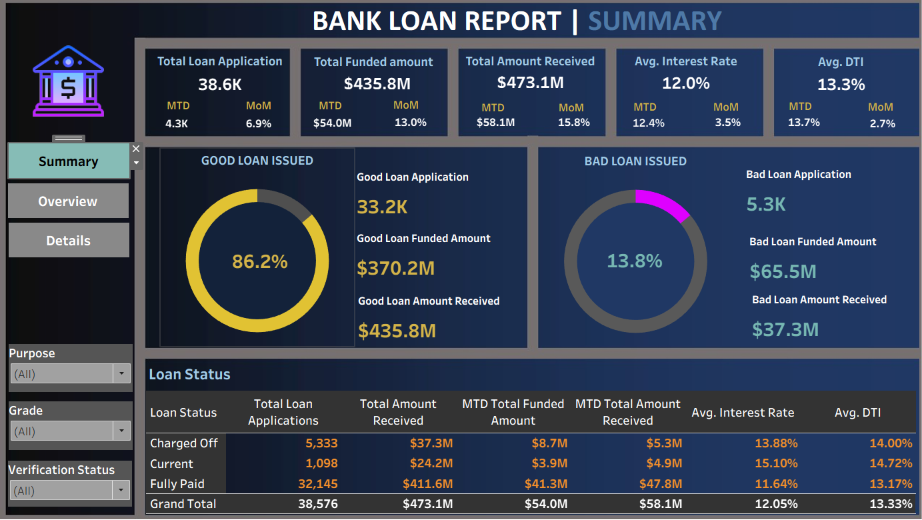

The dashboard page shown, as its layout file describes it:
{"tool":"tableau","page":{"name":"SUMMARY","canvas":[1000,1000],"units":"permille","ordinal":2},"visuals":[{"type":"image","param":"Image/Tableau Background 1.jpg","box":[5.7,9.9,988.6,980.1]},{"type":"text","box":[337.1,18.6,449.4,65.8]},{"type":"image","param":"Image/download (1) 1.png","box":[22,86.9,118.5,162.5]},{"type":"worksheet","title":"Total Loan Application","mark":"Automatic","box":[167.5,109.2,148.6,79.4]},{"type":"worksheet","title":"Total Amount Received","mark":"Automatic","box":[495.5,109.2,152.1,72]},{"type":"worksheet","title":"Avg. Interest Rate","mark":"Automatic","box":[660.1,109.2,152.8,74.4]},{"type":"worksheet","title":"Total Funded amount","mark":"Automatic","box":[330.8,110.4,149.3,73.2]},{"type":"worksheet","title":"Avg. DTI","mark":"Automatic","box":[826.9,110.4,149.3,76.9]},{"type":"text","box":[411.7,193.6,55.1,37.2]},{"type":"text","box":[172.4,194.8,50.2,37.2]},{"type":"text","box":[255.4,194.8,55.1,37.2]},{"type":"text","box":[334.3,194.8,50.2,37.2]},{"type":"text","box":[751.6,197.3,55.1,37.2]},{"type":"text","box":[506.6,198.5,50.2,37.2]},{"type":"text","box":[587.6,198.5,55.1,37.2]},{"type":"text","box":[674.1,199.8,37.7,31]},{"type":"text","box":[833.2,199.8,50.2,28.5]},{"type":"text","box":[915.6,199.8,55.1,32.3]},{"type":"worksheet","title":"MoM Total Funded Amount","mark":"Automatic","box":[420.1,225.8,48.1,36]},{"type":"worksheet","title":"MTD Total Funded Amount","mark":"Automatic","box":[338.4,227.1,46.8,37.2]},{"type":"worksheet","title":"MTD Total Amount Received","mark":"Automatic","box":[509.3,227.1,50.1,33.5]},{"type":"worksheet","title":"MoM Avg. Interest Rate","mark":"Automatic","box":[761.3,227.1,39.1,33.5]},{"type":"worksheet","title":"MTD Avg. Interest Rate","mark":"Automatic","box":[672.7,228.3,48.1,34.7]},{"type":"worksheet","title":"MoM Avg.DTI","mark":"Automatic","box":[917.7,228.3,54.4,36]},{"type":"worksheet","title":"MTD Loan Application","mark":"Automatic","box":[175.2,229.5,41.2,34.7]},{"type":"worksheet","title":"MoM Loan Application","mark":"Automatic","box":[265.2,229.5,34.9,33.5]},{"type":"worksheet","title":"MoM Total Amount Received","mark":"Automatic","box":[591.1,229.5,53,29.8]},{"type":"worksheet","title":"MTD Avg. DTI","mark":"Automatic","box":[838.8,229.5,46.8,29.8]},{"type":"dashboard-object","box":[17.7,284.1,127.8,64.5]},{"type":"worksheet","title":"Good Loan Issued","mark":"Pie","rows":["Calculation_0456039204794395","Calculation_0456039204794395"],"box":[179.1,294,205.5,367.2]},{"type":"worksheet","title":"Bad Loan Issued","mark":"Pie","rows":["Calculation_0456039204794395","Calculation_0456039204794395"],"box":[580.6,295.3,205.9,367.2]},{"type":"worksheet","title":"Bad Loan Application","mark":"Automatic","box":[794.8,317.6,180.7,109.2]},{"type":"worksheet","title":"Good Loan Application","mark":"Automatic","box":[381.7,322.6,180.7,109.2]},{"type":"dashboard-object","box":[17,358.6,127.8,64.5]},{"type":"dashboard-object","box":[17.7,431.8,127.8,64.5]},{"type":"worksheet","title":"Bad Loan%","mark":"Automatic","box":[637.1,434.2,90,132.8]},{"type":"worksheet","title":"Good Loan Funded Amount","mark":"Automatic","box":[381.7,436.7,182.8,109.2]},{"type":"worksheet","title":"Good Loan Application%","mark":"Automatic","box":[235,438,98.1,129]},{"type":"worksheet","title":"Bad Loan Funded Amount ","mark":"Automatic","box":[798.3,442.9,176.6,109.2]},{"type":"worksheet","title":"Bad Loan Amount Received ","mark":"Automatic","box":[801.1,550.9,175.8,109.2]},{"type":"worksheet","title":"Good Loan Amount Received","mark":"Automatic","box":[383.1,553.4,181.4,109.2]},{"type":"filter","title":"Good Loan Issued","param":"[federated.1d4ytph0btjmoy1crx2t60rukmry].[none:purpose:nk]","box":[17.7,657.6,131.3,89.3]},{"type":"worksheet","title":"Loan Status","mark":"Automatic","rows":["loan_status"],"box":[163.7,688.6,817.2,285.4]},{"type":"filter","title":"Good Loan Issued","param":"[federated.1d4ytph0btjmoy1crx2t60rukmry].[none:grade:nk]","box":[17.7,764.3,131.3,90.6]},{"type":"filter","title":"Good Loan Issued","param":"[federated.1d4ytph0btjmoy1crx2t60rukmry].[none:verification_status:nk]","box":[17,874.7,131.3,85.6]}]}

Visuals, with their boxes on the dashboard's canvas, which has no fixed pixel size, in thousandths of its width and height (x1, y1, x2, y2). These are canvas units, not pixel positions in the 922x520 screenshot, which may show the page scaled, cropped or inside an application window:
image: select_region(6, 10, 994, 990)
text: select_region(337, 19, 786, 84)
image: select_region(22, 87, 140, 249)
"Total Loan Application" worksheet: select_region(168, 109, 316, 189)
"Total Amount Received" worksheet: select_region(496, 109, 648, 181)
"Avg. Interest Rate" worksheet: select_region(660, 109, 813, 184)
"Total Funded amount" worksheet: select_region(331, 110, 480, 184)
"Avg. DTI" worksheet: select_region(827, 110, 976, 187)
text: select_region(412, 194, 467, 231)
text: select_region(172, 195, 223, 232)
text: select_region(255, 195, 310, 232)
text: select_region(334, 195, 384, 232)
text: select_region(752, 197, 807, 234)
text: select_region(507, 198, 557, 236)
text: select_region(588, 198, 643, 236)
text: select_region(674, 200, 712, 231)
text: select_region(833, 200, 883, 228)
text: select_region(916, 200, 971, 232)
"MoM Total Funded Amount" worksheet: select_region(420, 226, 468, 262)
"MTD Total Funded Amount" worksheet: select_region(338, 227, 385, 264)
"MTD Total Amount Received" worksheet: select_region(509, 227, 559, 261)
"MoM Avg. Interest Rate" worksheet: select_region(761, 227, 800, 261)
"MTD Avg. Interest Rate" worksheet: select_region(673, 228, 721, 263)
"MoM Avg.DTI" worksheet: select_region(918, 228, 972, 264)
"MTD Loan Application" worksheet: select_region(175, 230, 216, 264)
"MoM Loan Application" worksheet: select_region(265, 230, 300, 263)
"MoM Total Amount Received" worksheet: select_region(591, 230, 644, 259)
"MTD Avg. DTI" worksheet: select_region(839, 230, 886, 259)
dashboard-object: select_region(18, 284, 146, 349)
"Good Loan Issued" worksheet (Pie marks): select_region(179, 294, 385, 661)
"Bad Loan Issued" worksheet (Pie marks): select_region(581, 295, 786, 662)
"Bad Loan Application" worksheet: select_region(795, 318, 976, 427)
"Good Loan Application" worksheet: select_region(382, 323, 562, 432)
dashboard-object: select_region(17, 359, 145, 423)
dashboard-object: select_region(18, 432, 146, 496)
"Bad Loan%" worksheet: select_region(637, 434, 727, 567)
"Good Loan Funded Amount" worksheet: select_region(382, 437, 564, 546)
"Good Loan Application%" worksheet: select_region(235, 438, 333, 567)
"Bad Loan Funded Amount " worksheet: select_region(798, 443, 975, 552)
"Bad Loan Amount Received " worksheet: select_region(801, 551, 977, 660)
"Good Loan Amount Received" worksheet: select_region(383, 553, 564, 663)
"Good Loan Issued" filter: select_region(18, 658, 149, 747)
"Loan Status" worksheet: select_region(164, 689, 981, 974)
"Good Loan Issued" filter: select_region(18, 764, 149, 855)
"Good Loan Issued" filter: select_region(17, 875, 148, 960)
